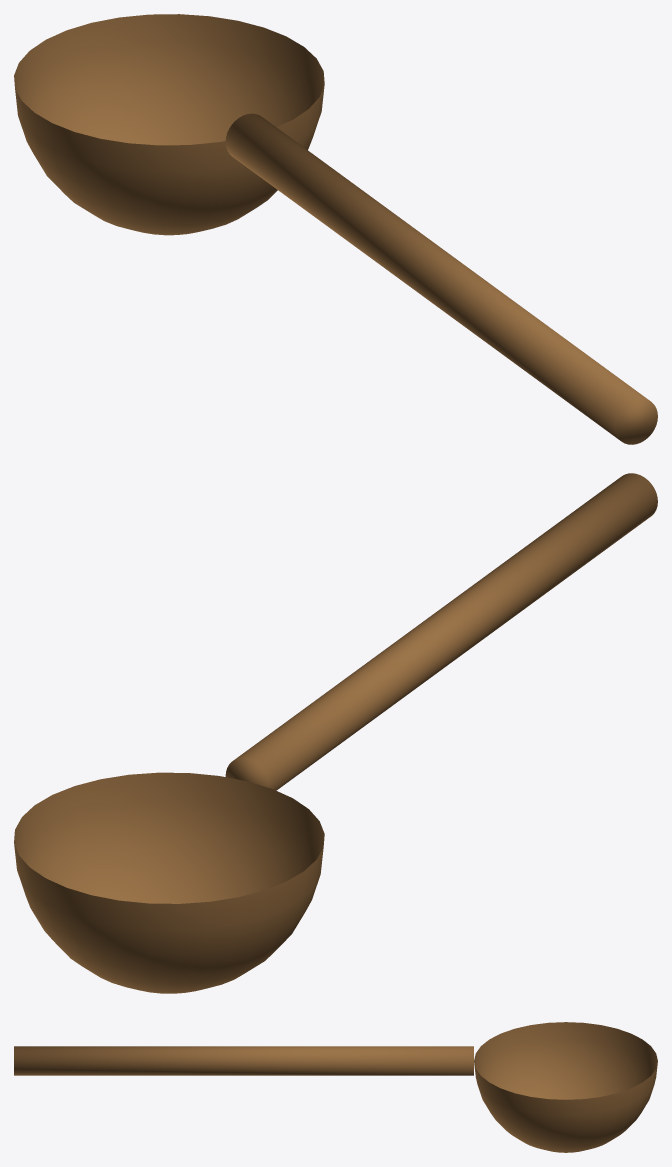
File: sauna-ladle-gemini2.glb
The picture shows the model from 3 angles, top to bottom: view 1: azimuth 30°, elevation 25°; view 2: azimuth 150°, elevation 25°; view 3: azimuth 270°, elevation 25°; orthographic projection. The views are drawn at different scales.
Visible parts, largest first — view 1: SaunaLadle; view 2: SaunaLadle; view 3: SaunaLadle.
Boxes of the visible parts, left/top/right/bottom form: SaunaLadle: left=14, top=14, right=657, bottom=444; SaunaLadle: left=14, top=473, right=657, bottom=993; SaunaLadle: left=14, top=1022, right=657, bottom=1152.
Size of the model in its own units: 1 by 0.58 by 3.5.
